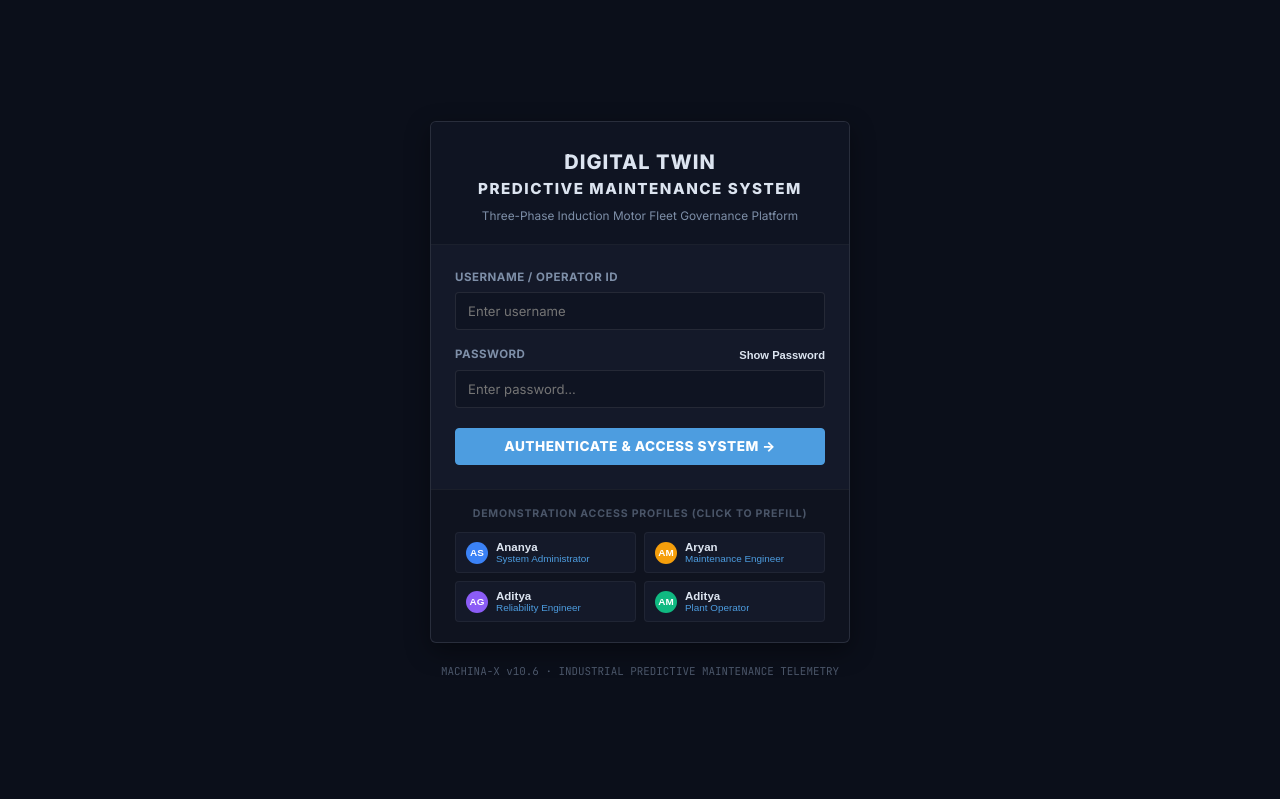
it: Phase 10.6 — Login Authentication & Role-Based Access Control › 2. Authentication for All Four Demo Users › authenticates Aditya Maurya (Plant Operator) and displays Live Operations
The width and height of the screenshot is (1280, 799).
Note: Click quickfill for Aditya Maurya (second Aditya button)
What coordinates should you click on to do the following:
click the button "AM Aditya Plant Operator"
I would click on:
 (734, 602)
Its box is 644,581 -> 825,622.
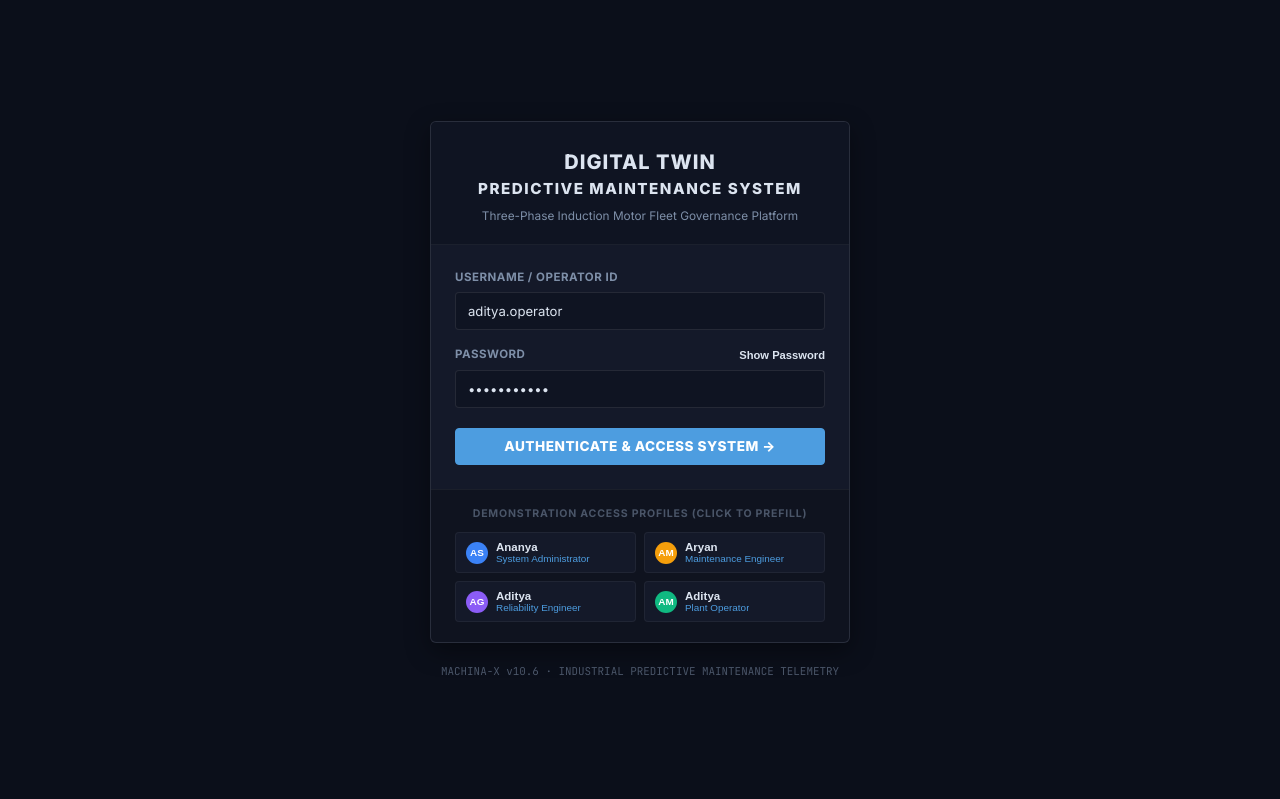
What coordinates should you click on to do the following:
click the button "AUTHENTICATE & ACCESS SYSTEM →"
I would click on:
 (640, 446)
Its box is 455,428 -> 825,465.
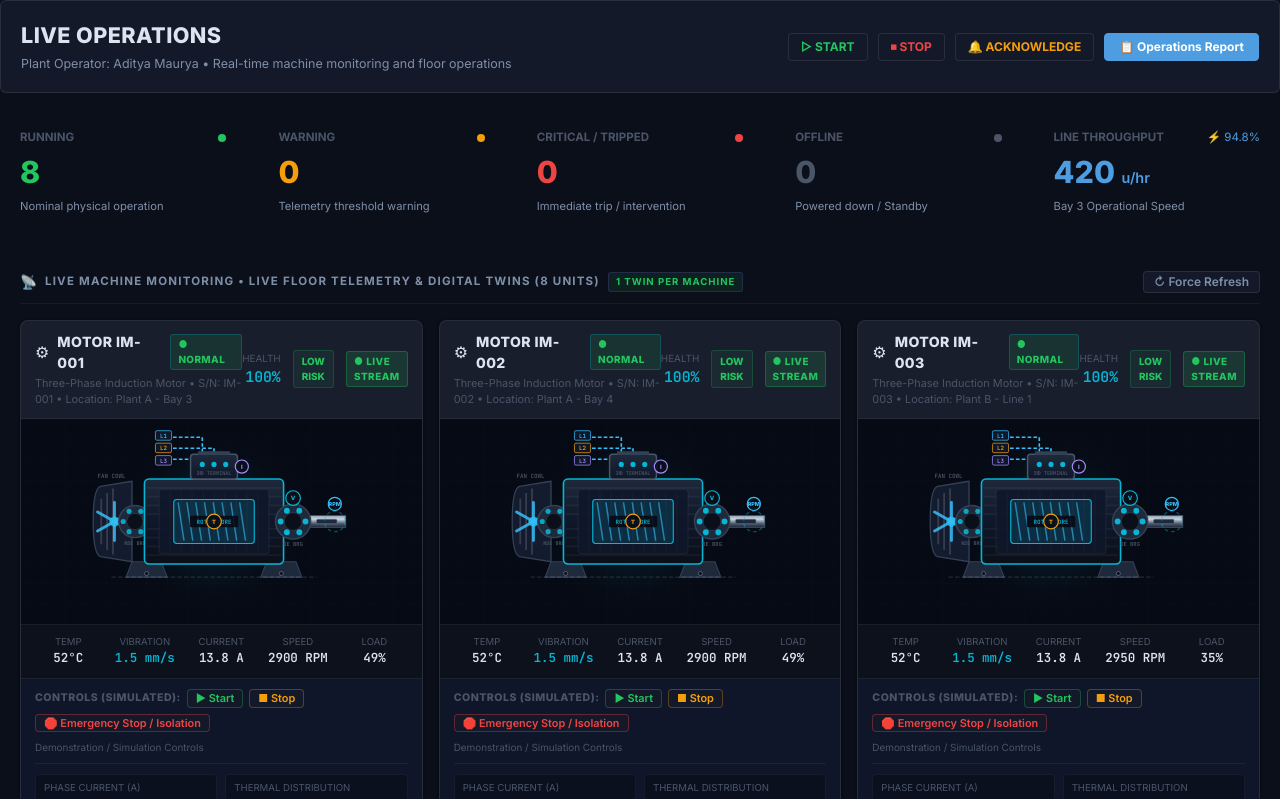
Expected: the heading "LIVE OPERATIONS" is shown, 21,22 -> 222,48
Expected: the text "Live Floor Telemetry & Digital Twins" is shown, 45,274 -> 540,288
